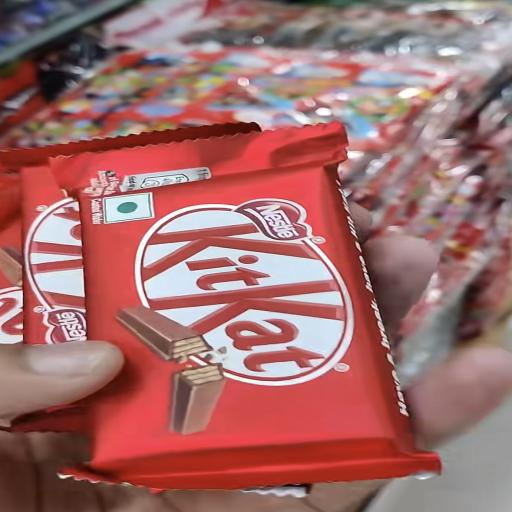kitkat: (31, 126, 466, 504)
